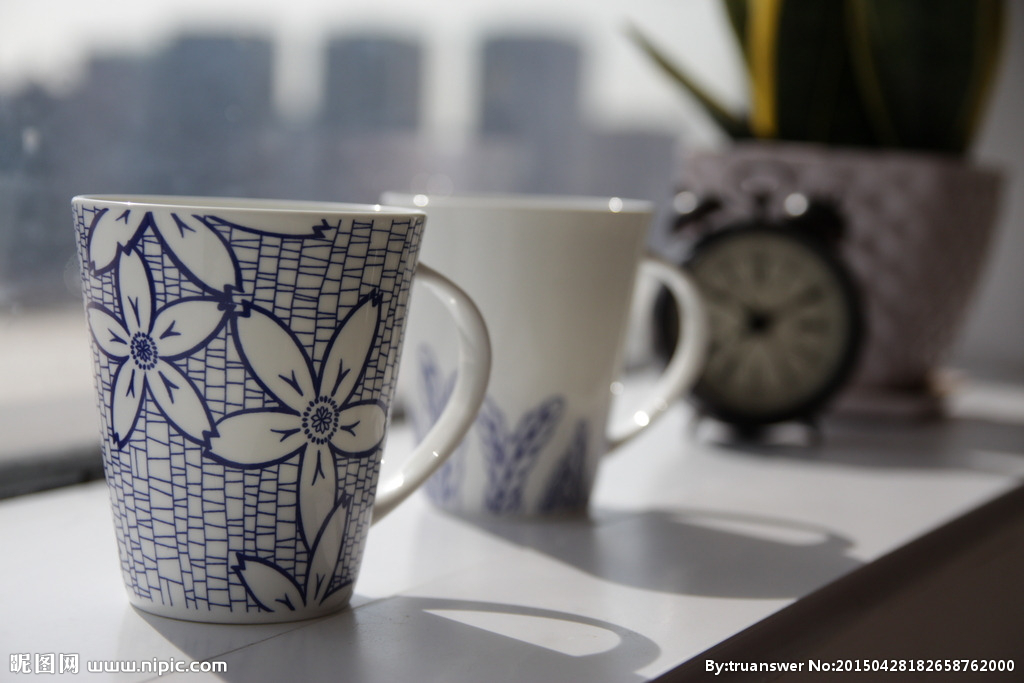cup: (66, 188, 494, 627)
